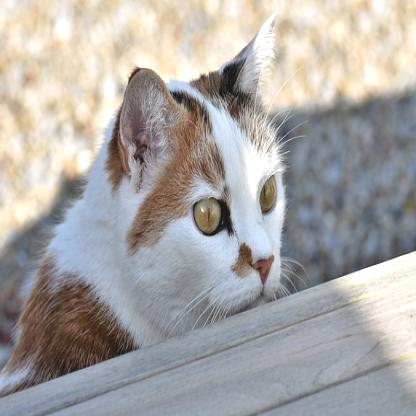cat: (0, 11, 306, 364)
